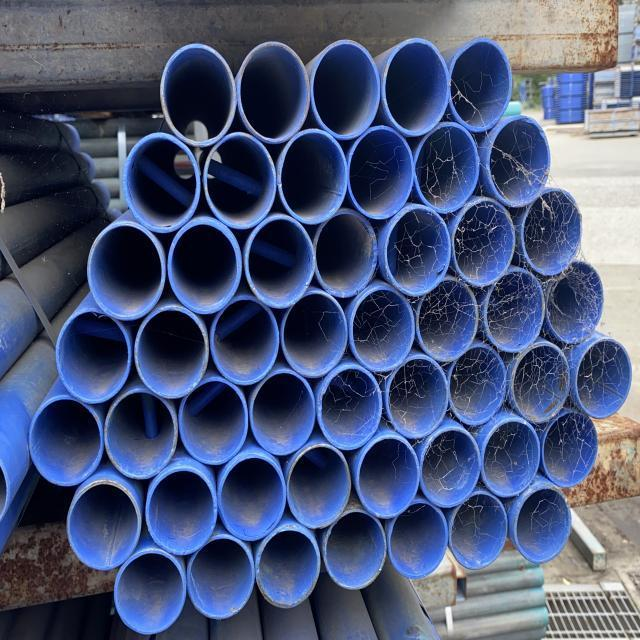pipe: (87, 226, 169, 325), (372, 42, 451, 142), (123, 132, 201, 231), (306, 39, 382, 138), (241, 44, 314, 143), (168, 218, 242, 315), (28, 396, 105, 489), (161, 44, 234, 142), (56, 315, 134, 406), (134, 307, 209, 400), (66, 481, 142, 572), (276, 128, 347, 225), (204, 132, 277, 226), (244, 214, 316, 309), (147, 466, 222, 557), (102, 391, 177, 480), (382, 208, 452, 302), (112, 551, 187, 638), (445, 41, 515, 134), (414, 273, 484, 366), (346, 121, 415, 215), (351, 281, 420, 372), (176, 376, 247, 464), (213, 297, 282, 386), (247, 369, 316, 457), (450, 196, 516, 288), (485, 122, 553, 211), (185, 535, 256, 620), (218, 456, 289, 540), (280, 291, 347, 380), (355, 434, 422, 523), (315, 365, 383, 452), (288, 445, 356, 532), (314, 212, 379, 301), (524, 191, 586, 283), (253, 527, 321, 610), (385, 358, 452, 442), (417, 119, 480, 208), (540, 263, 604, 349), (541, 401, 599, 494), (323, 506, 388, 588), (511, 339, 570, 428), (384, 501, 448, 583), (575, 331, 633, 420), (418, 429, 482, 509), (483, 268, 543, 353), (448, 341, 507, 427), (479, 421, 542, 500), (446, 493, 508, 570), (514, 485, 575, 563)
